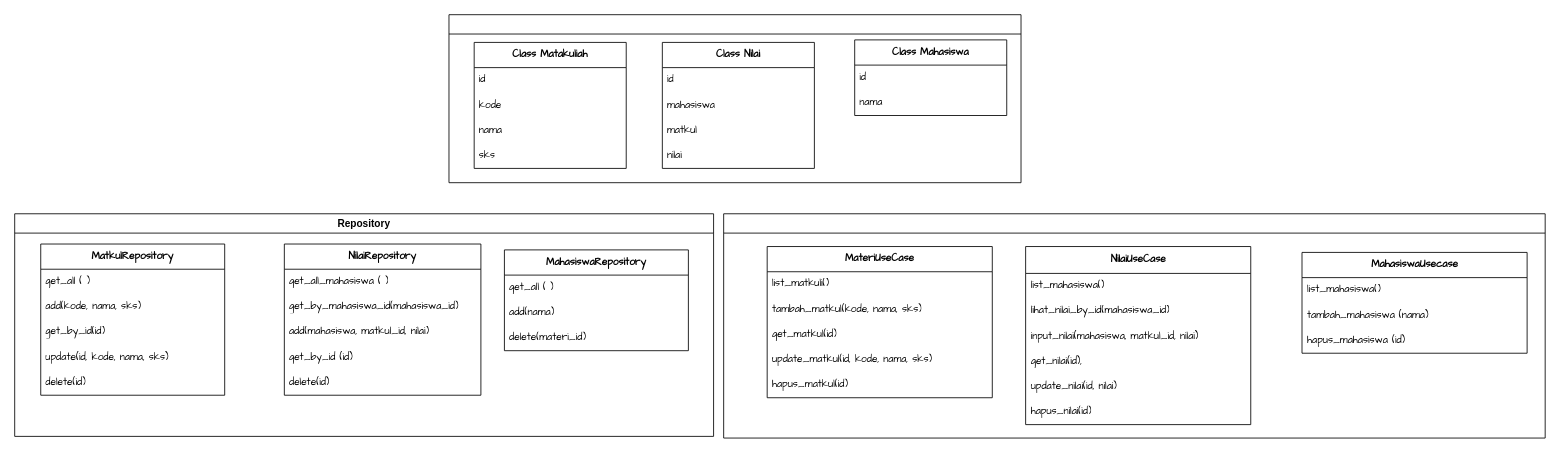
Image size: 1560x453. Some labels were removed from this diagram. Here are the shapes that lost their labels. From the top down, the centre of each, then its label:
At [734,98]: "Entitas".
At [1134,325]: "Usecase".
